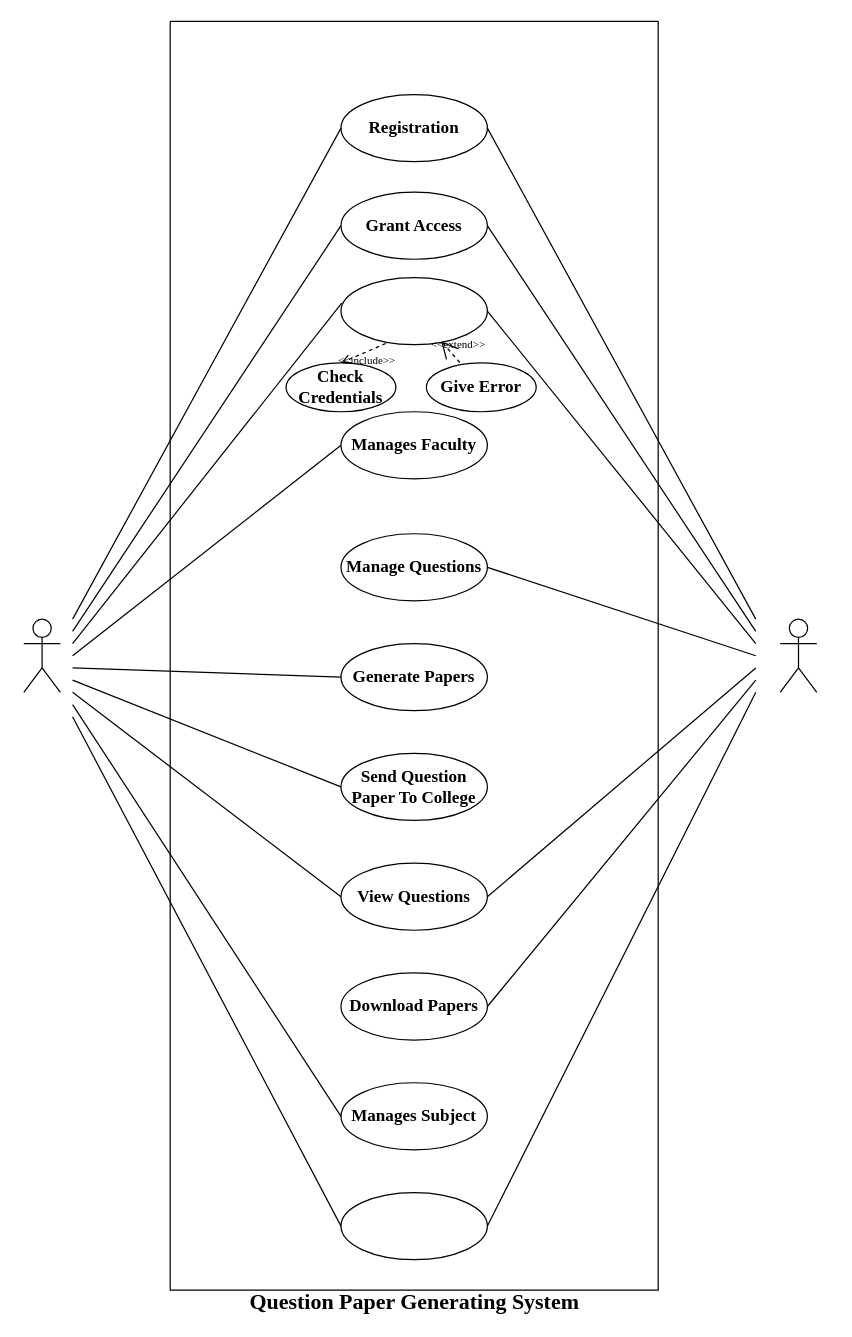
This 852x1337 diagram has some shape labels left out. Here are the shapes that lost their labels. From the top down, the centre of each, then its label:
At pixel 413 310: "Login".
At pixel 41 655: "Admin".
At pixel 798 655: "Faculty".
At pixel 413 1225: "Feedback".
